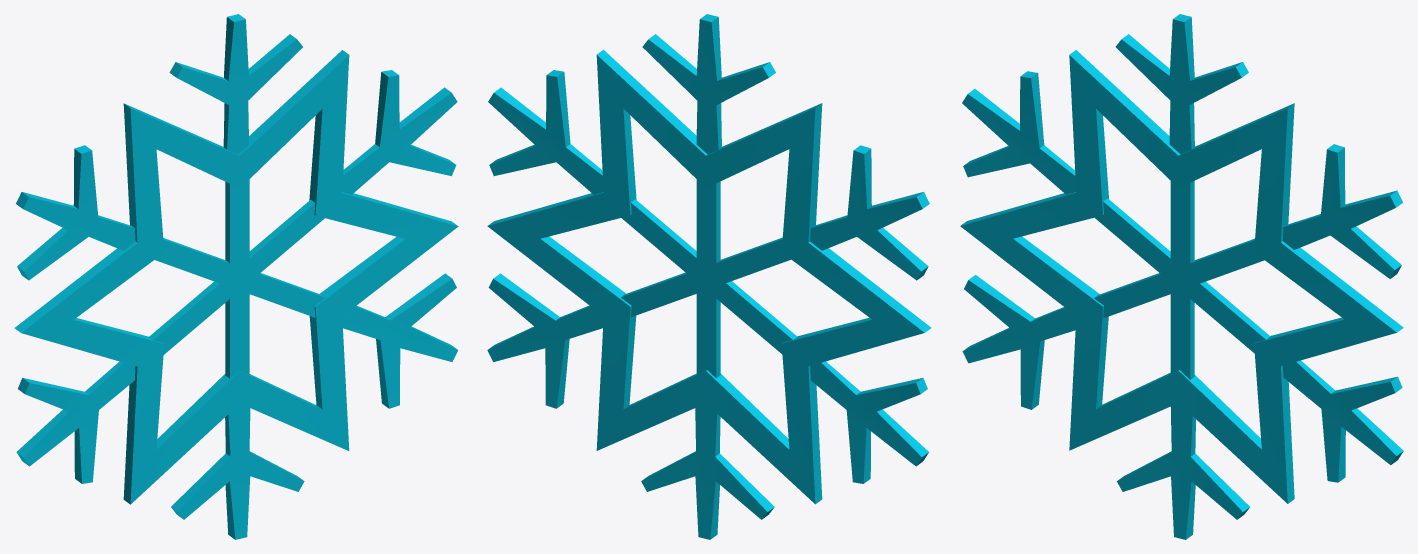
File: Snowflake.fbx
3 renders of one model, left to right at view 1: azimuth 30°, elevation 25°; view 2: azimuth 150°, elevation 25°; view 3: azimuth 330°, elevation 25°, orthographic.
Parts seen in each view (by area): view 1: Snow_Flake; view 2: Snow_Flake; view 3: Snow_Flake.
Boxes of the visible parts, x1=… form: Snow_Flake: x1=14, y1=14, x2=458, y2=539; Snow_Flake: x1=487, y1=14, x2=931, y2=539; Snow_Flake: x1=960, y1=14, x2=1403, y2=539.
Bounding box in the file's own units: 623 × 705 × 17.84.
